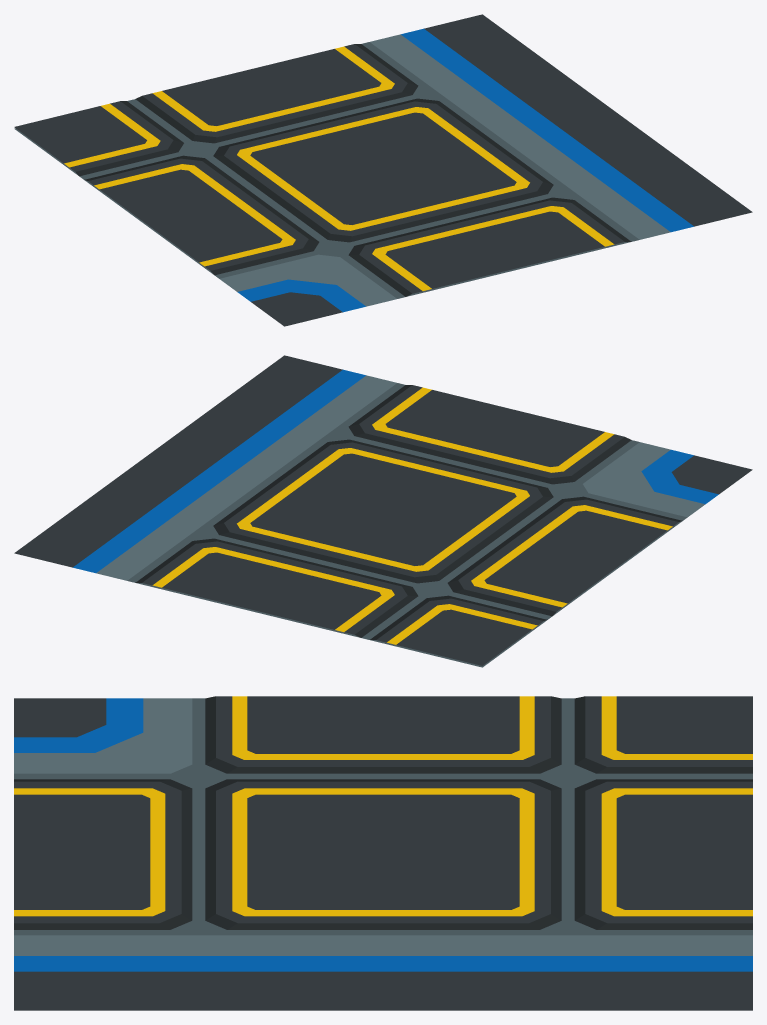
The model's file is Floor_type_C_037.fbx.
3 views of the same model, one above another, from view 1: azimuth 30°, elevation 25°; view 2: azimuth 150°, elevation 25°; view 3: azimuth 270°, elevation 25° (orthographic). The views are drawn at different scales.
Parts seen in each view (by area): view 1: Floor_type_C_037; view 2: Floor_type_C_037; view 3: Floor_type_C_037.
Boxes of the visible parts, <box> form: Floor_type_C_037: <box>14,14,752,326</box>; Floor_type_C_037: <box>14,355,752,667</box>; Floor_type_C_037: <box>14,696,752,1010</box>.
Size of the model in its own units: 400 by 400 by 1.34.
